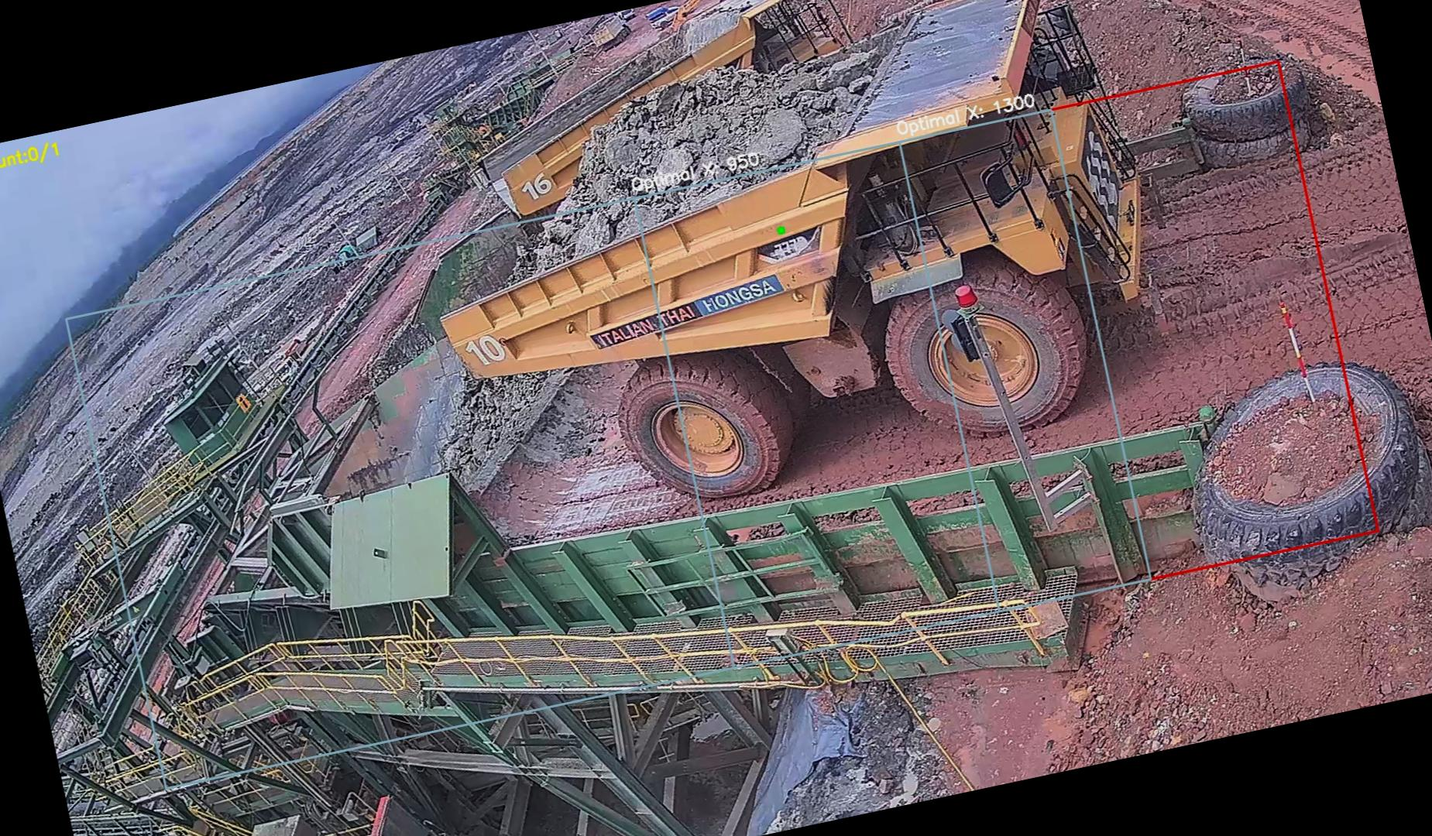company: (574, 266, 799, 360)
full_load: (531, 32, 900, 250)
mining_truck: (388, 0, 1194, 547)
tail_number: (455, 324, 516, 378)
truck_size: (747, 219, 838, 275)
